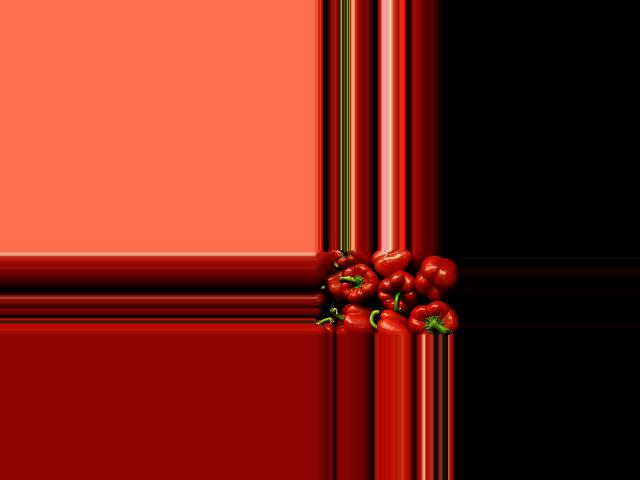bell_pepper: (373, 251, 412, 273)
